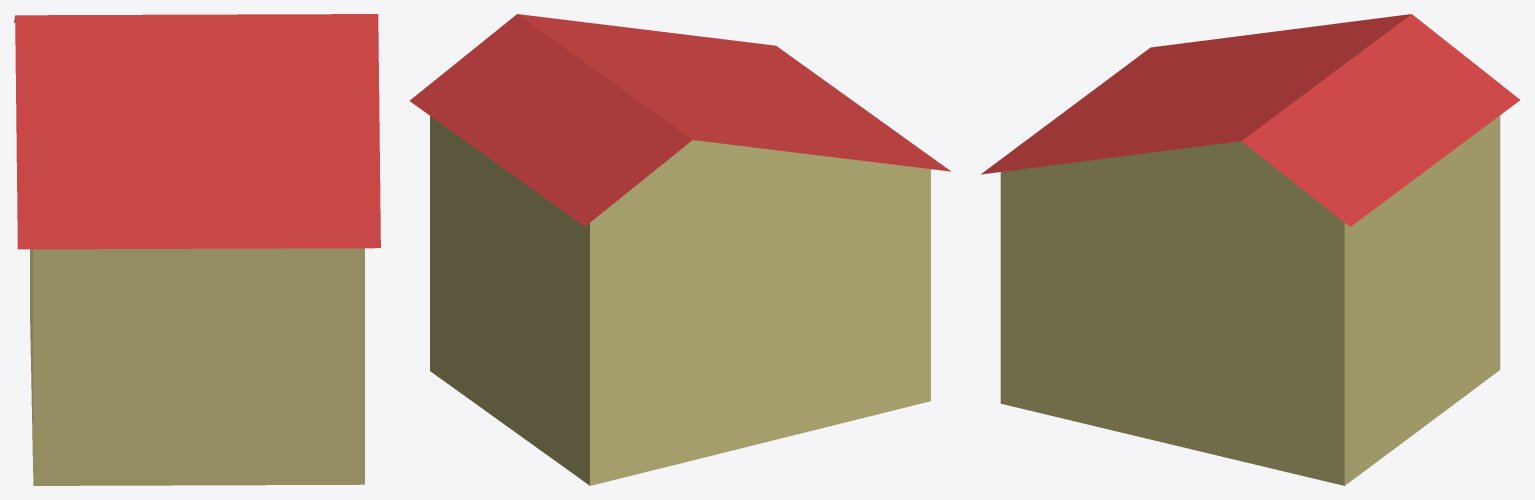
The picture shows the model from 3 angles, left to right: view 1: azimuth 30°, elevation 25°; view 2: azimuth 150°, elevation 25°; view 3: azimuth 270°, elevation 25°; orthographic projection. The views are drawn at different scales.
Bounding box in the file's own units: 17.05 × 18.05 × 12.08.
